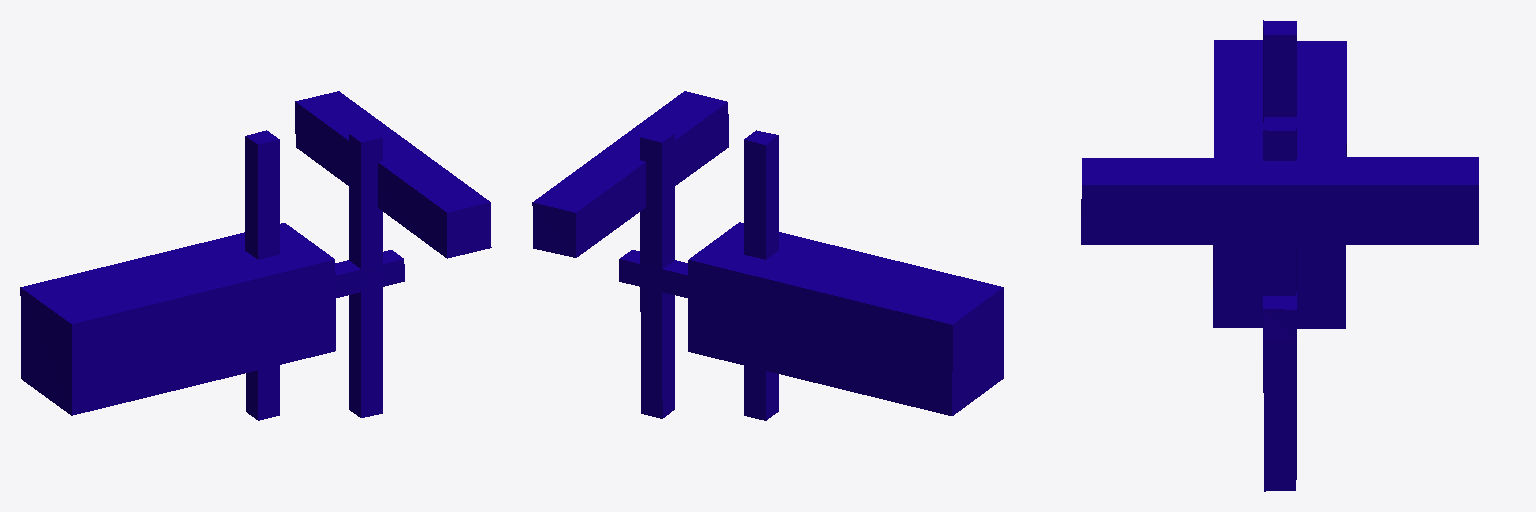
The robot description file, URDF, robot "procedural_obj_0008":
<?xml version="0.0" ?>
<!-- based on data/cube.urdf -->
<robot name="procedural_obj_0008">
  <link name="procedural_obj_0008">
    <contact>
      <lateral_friction value="1.0"/>
      <rolling_friction value="0.0"/>
      <contact_cfm value="0.0"/>
      <contact_erp value="1.0"/>
    </contact>
    <inertial>
      <origin rpy="0 0 0" xyz="0 0 0"/>
       <mass value="1.0"/>
       <inertia ixx="1" ixy="0" ixz="0" iyy="1" iyz="0" izz="1"/>
    </inertial>
    <visual>
      <origin rpy="0 0 0" xyz="0 0 0"/>
      <geometry>
	<mesh filename="0008.obj" scale="1 1 1"/>
      </geometry>
       <material name="random_colour">
        <color rgba="0.140 0.022 0.638 1"/>
      </material>
    </visual>
    <collision>
      <origin rpy="0 0 0" xyz="0 0 0"/>
      <geometry>
	<mesh filename="0008.vhacd.obj" scale="1 1 1"/>
      </geometry>
    </collision>
  </link>
</robot>

--- What the picture shows (computed from the rendered views, not written in the file) ---
The picture shows the robot from 3 angles, left to right: view 1: azimuth 30°, elevation 25°; view 2: azimuth 150°, elevation 25°; view 3: azimuth 270°, elevation 25°; orthographic projection.
Model procedural_obj_0008 with 1 links and 0 joints (none), rooted at procedural_obj_0008, posed every joint at zero.
Links seen in each view (by area): view 1: procedural_obj_0008; view 2: procedural_obj_0008; view 3: procedural_obj_0008.
Boxes of the visible links, bbox=[...] form: procedural_obj_0008: bbox=[20, 91, 491, 420]; procedural_obj_0008: bbox=[532, 91, 1003, 420]; procedural_obj_0008: bbox=[1081, 20, 1478, 491].
Size in the robot's own frame: 0.1261 by 0.0902 by 0.0977 metres.
1 mesh visuals loaded from 1 distinct referenced files (1 OBJ).